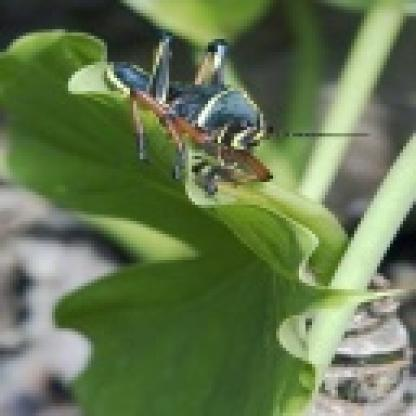grasshopper: (106, 31, 351, 192)
